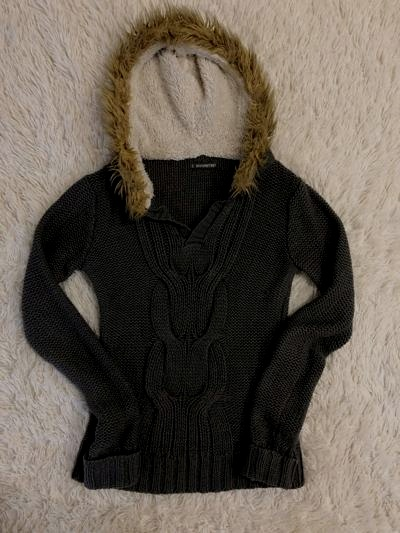Hoodie: (15, 27, 365, 503)
